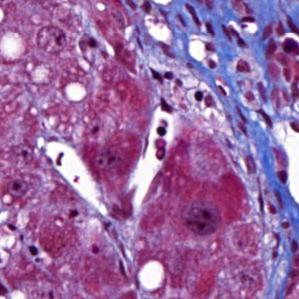inflammation: (172, 2, 219, 39), (230, 104, 275, 138)
